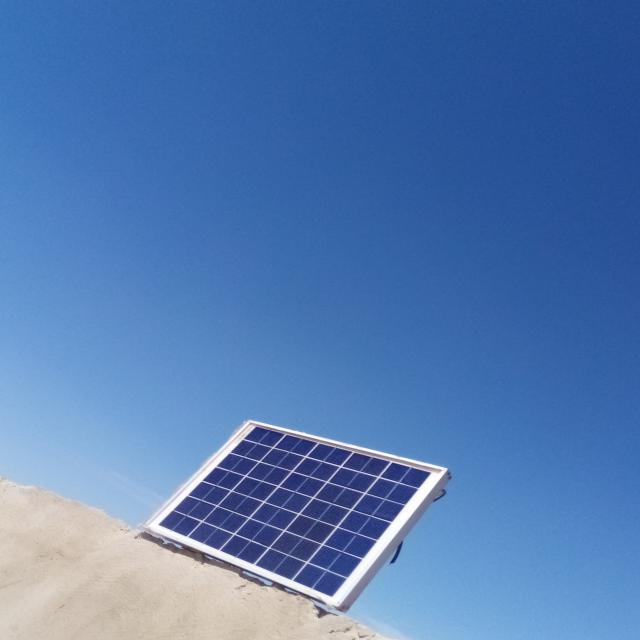no faulty: (142, 422, 446, 607)
